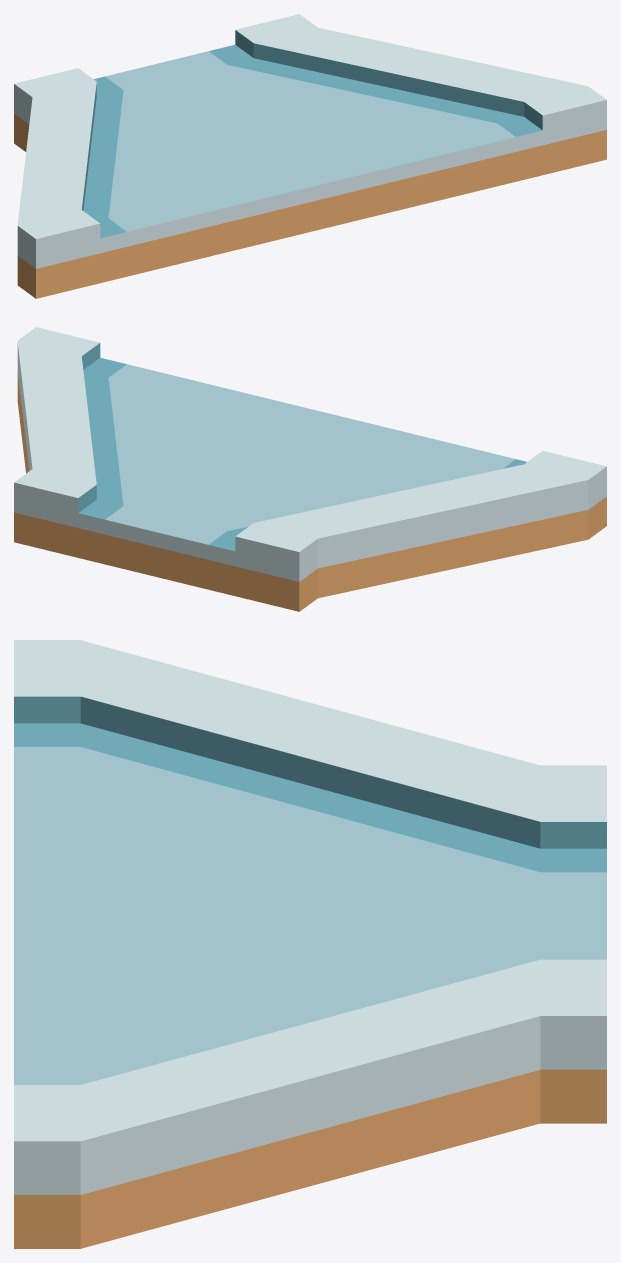
The model's file is snow_tile_wideTransition.dae.
3 views of the same model, one above another, from view 1: azimuth 30°, elevation 25°; view 2: azimuth 150°, elevation 25°; view 3: azimuth 270°, elevation 25° (orthographic). The views are drawn at different scales.
Visible parts, largest first — view 1: snow_tile_wideTransition; view 2: snow_tile_wideTransition; view 3: snow_tile_wideTransition.
Boxes of the visible parts, <box> form: snow_tile_wideTransition: <box>14,14,606,298</box>; snow_tile_wideTransition: <box>14,327,606,611</box>; snow_tile_wideTransition: <box>14,640,606,1248</box>.
Size of the model in its own units: 2 by 0.2 by 1.
